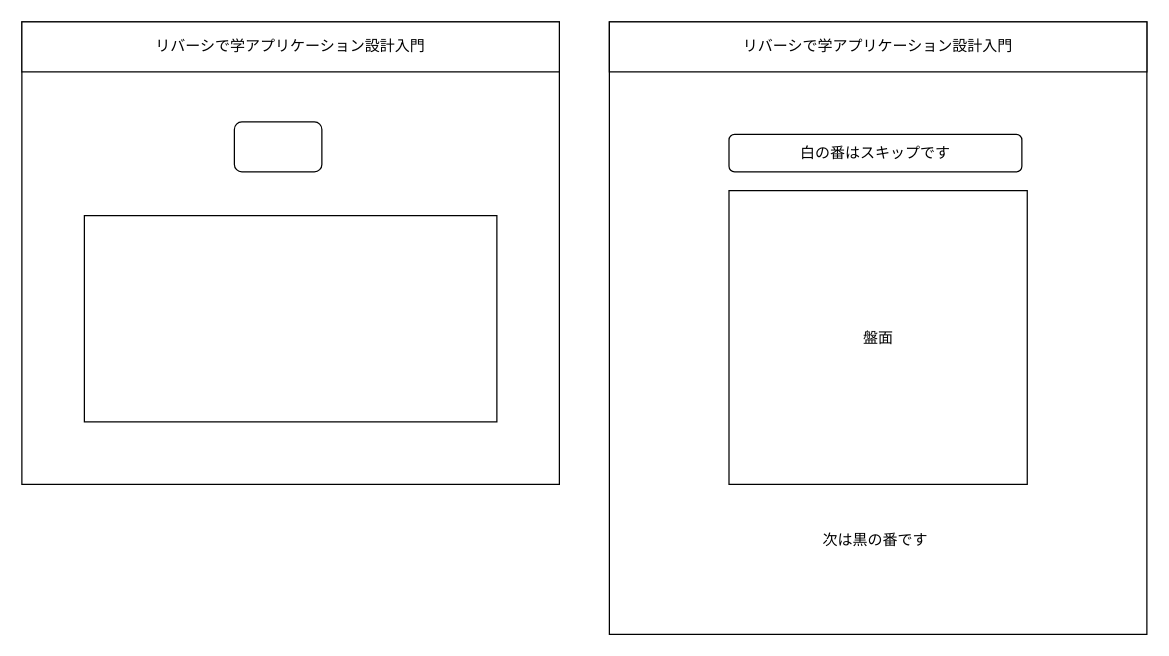
The diagram is 1169 pixels wide and 656 high, and some of its shapes have lost their labels. The centre of each missing label's shape, as x and y in pixels:
"対戦する" belongs at point (277, 146).
"過去の対戦結果" belongs at point (290, 318).
